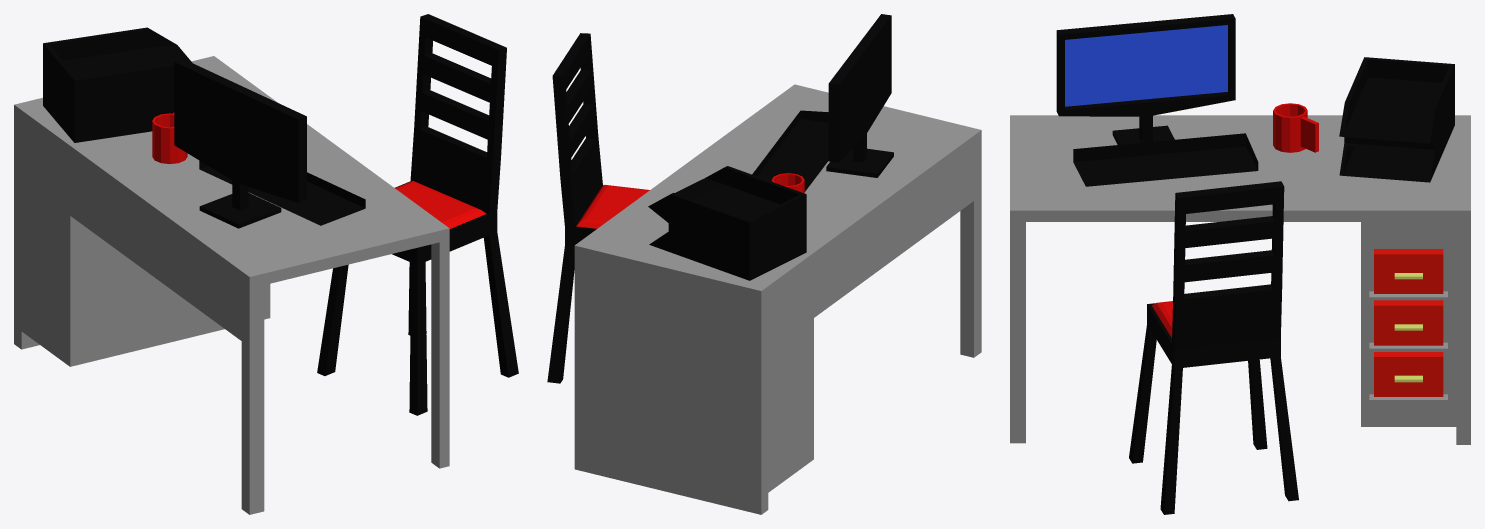
The model's file is Desk.fbx.
3 views of the same model, side by side, from view 1: azimuth 30°, elevation 25°; view 2: azimuth 150°, elevation 25°; view 3: azimuth 270°, elevation 25° (orthographic). The views are drawn at different scales.
Parts seen in each view (by area): view 1: Cube, Cube.004, Cube.002, Cube.003, Cube.001, Cylinder; view 2: Cube, Cube.003, Cube.004, Cube.002, Cube.001; view 3: Cube, Cube.004, Cube.002, Cube.003, Cube.001, Cylinder.
Boxes of the visible parts, x1,y1,x2,y2 form: Cube: [14, 56, 449, 514]; Cube.004: [317, 14, 518, 415]; Cube.002: [174, 58, 306, 228]; Cube.003: [43, 27, 192, 142]; Cube.001: [199, 160, 365, 225]; Cylinder: [152, 112, 187, 163]; Cube: [574, 84, 981, 514]; Cube.003: [648, 166, 806, 280]; Cube.004: [547, 33, 649, 383]; Cube.002: [826, 14, 893, 177]; Cube.001: [752, 110, 828, 191]; Cube: [1010, 115, 1470, 444]; Cube.004: [1129, 181, 1298, 514]; Cube.002: [1056, 14, 1235, 144]; Cube.003: [1339, 57, 1454, 182]; Cube.001: [1073, 133, 1258, 186]; Cylinder: [1273, 103, 1318, 152].
Size of the model in its own units: 716 by 712 by 840.
